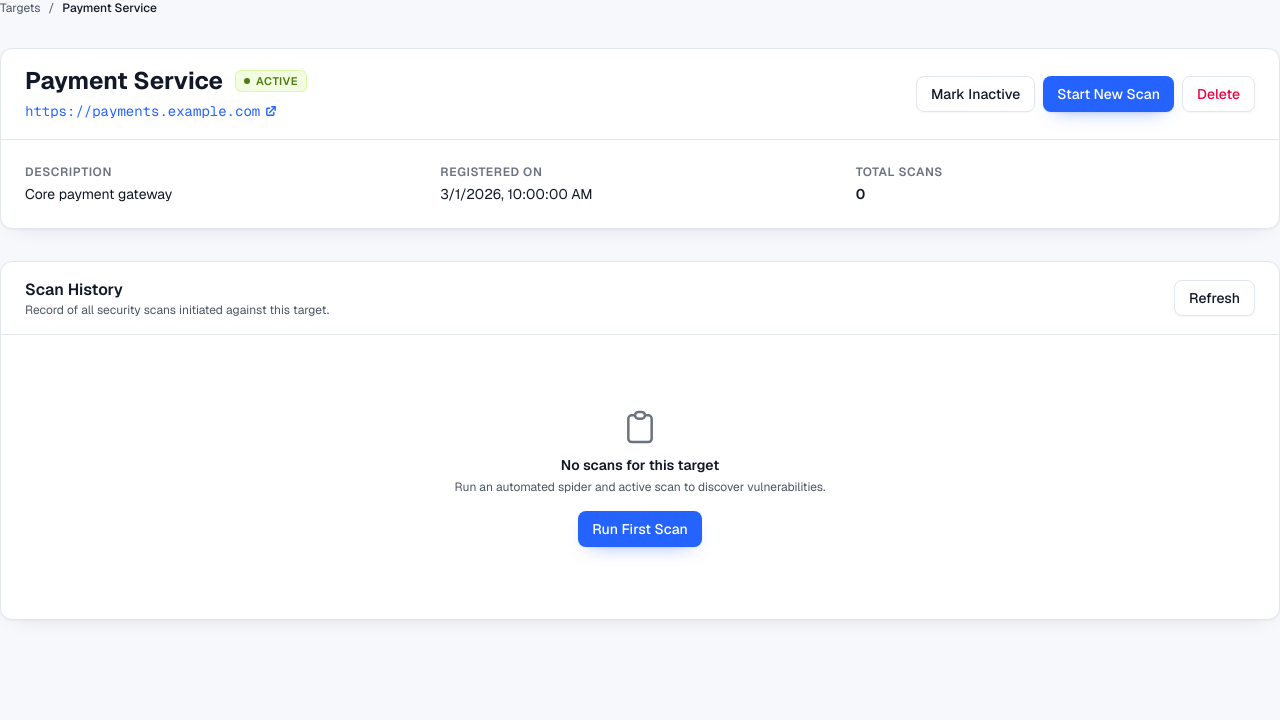
Scenario: Target Detail Flow › surfaces API error when starting a scan fails
Check: the heading "Payment Service" is shown, box x1=25 y1=65 x2=223 y2=97
Click the button "Start New Scan".
click(1109, 94)  # box x1=1043 y1=76 x2=1174 y2=112
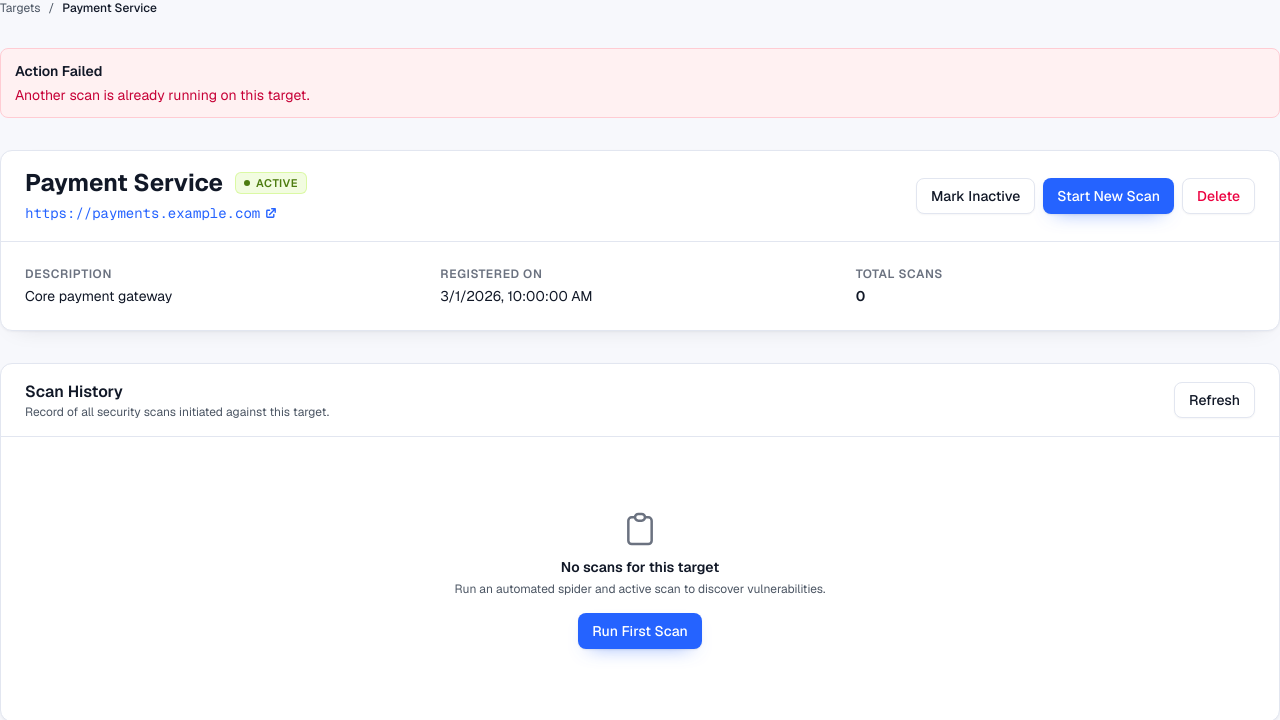
Check: the text "Another scan is already running on this target." is shown, box x1=15 y1=86 x2=310 y2=104
